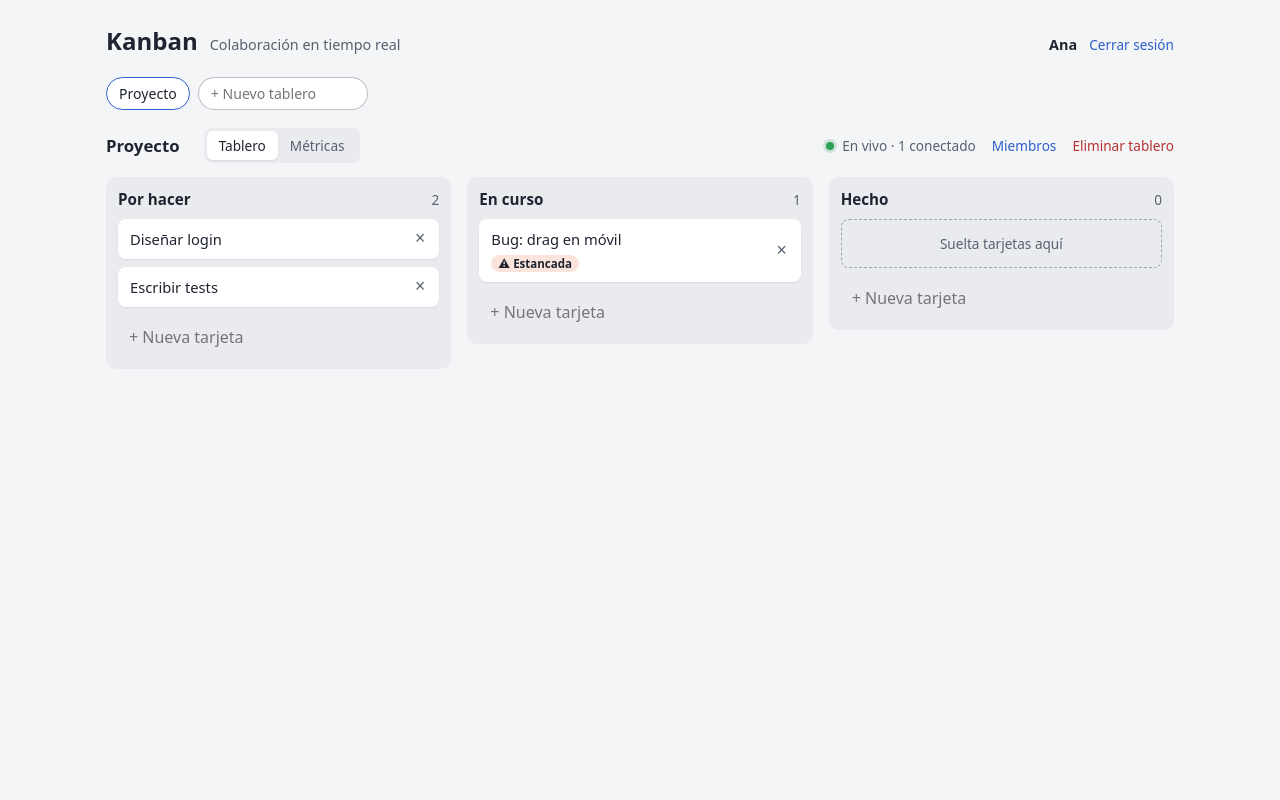
Test case: tablero › si crear falla, conserva el texto y avisa
In the field named "Nueva tarjeta en Hecho": (1001, 298) 841,278 -> 1162,318, type "Algo"
Then press Enter
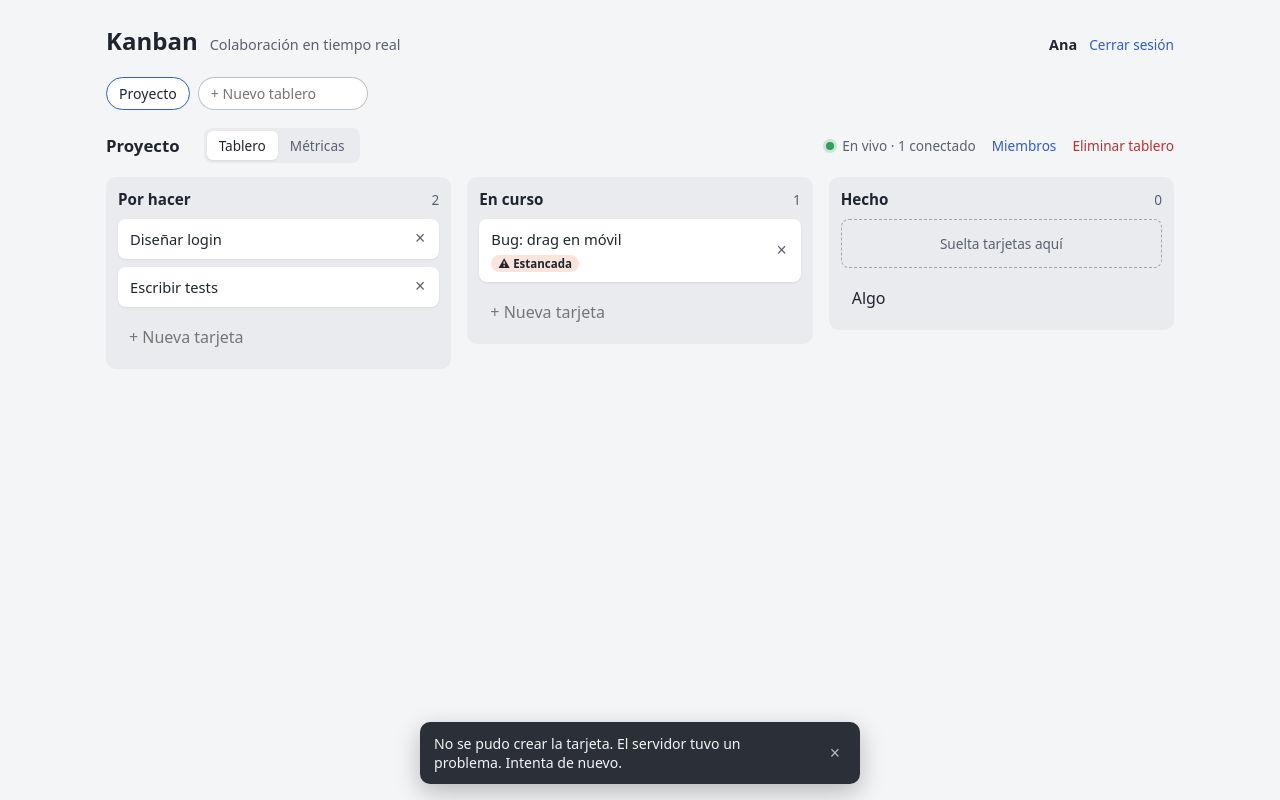
Expected: the text "No se pudo crear la tarjeta. El servidor tuvo un problema" is shown, 434,734 -> 741,772
